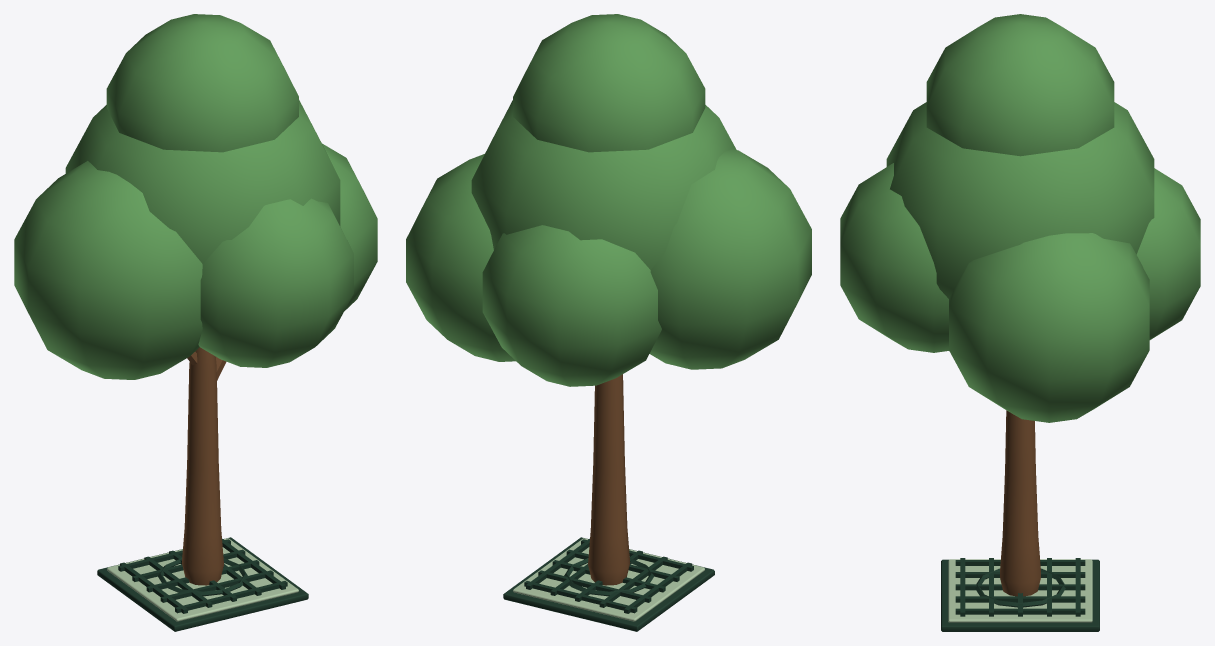
File: sidewalk_tree_grate.glb
3 views of the same model, side by side, from view 1: azimuth 30°, elevation 25°; view 2: azimuth 150°, elevation 25°; view 3: azimuth 270°, elevation 25° (orthographic).
Visible parts, largest first — view 1: sidewalk_tree_grate; view 2: sidewalk_tree_grate; view 3: sidewalk_tree_grate.
Part boxes in pixels (left/top/right/bottom): sidewalk_tree_grate: left=14, top=14, right=377, bottom=631; sidewalk_tree_grate: left=406, top=14, right=811, bottom=631; sidewalk_tree_grate: left=840, top=14, right=1200, bottom=631.
Size of the model in its own units: 2.91 by 4.4 by 2.5.
